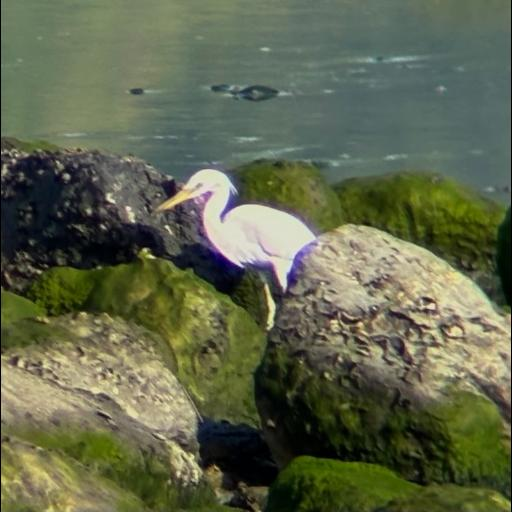chinese_egret: (150, 165, 318, 333)
